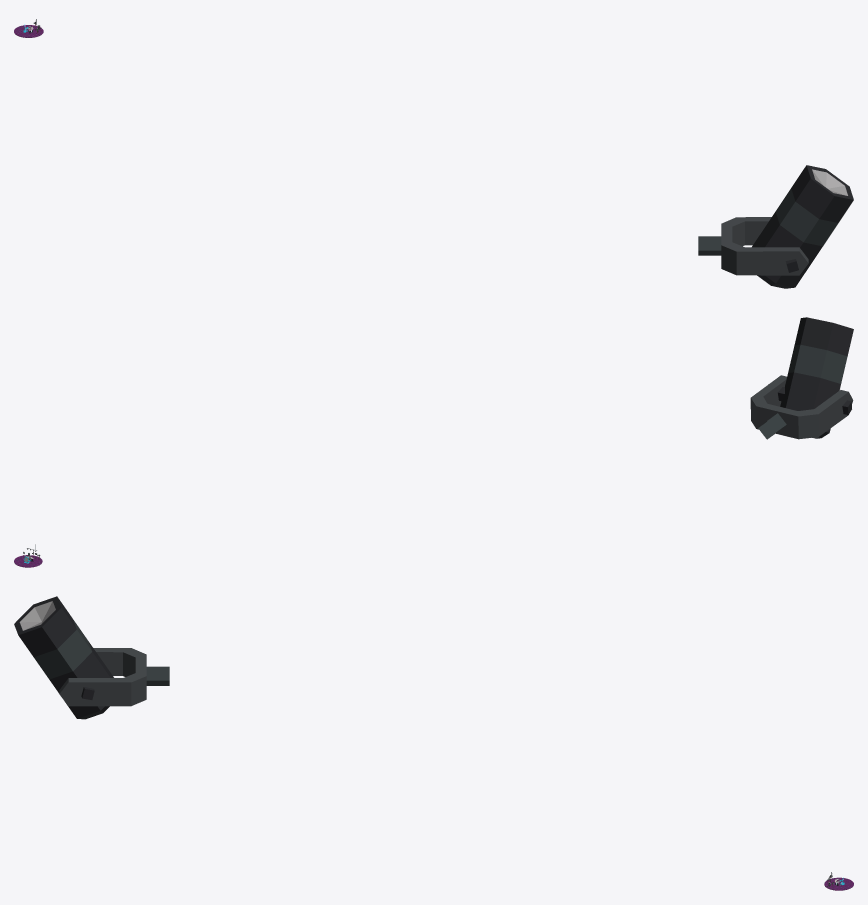
The model's file is LTTV_Set2.glb.
The picture shows the model from 3 angles, top to bottom: view 1: azimuth 90°, elevation 25°; view 2: azimuth 150°, elevation 25°; view 3: azimuth 270°, elevation 25°; orthographic projection. The views are drawn at different scales.
Visible parts, largest first — view 1: SM_Prop_Light_Spotlight_02_Light_01.001, SM_Prop_Light_Spotlight_02_Bracket_01.001; view 2: SM_Prop_Light_Spotlight_02_Light_01.001, SM_Prop_Light_Spotlight_02_Bracket_01.001; view 3: SM_Prop_Light_Spotlight_02_Light_01.001, SM_Prop_Light_Spotlight_02_Bracket_01.001.
Boxes of the visible parts, bbox=[...] form: SM_Prop_Light_Spotlight_02_Light_01.001: bbox=[752, 165, 853, 288]; SM_Prop_Light_Spotlight_02_Bracket_01.001: bbox=[698, 217, 808, 275]; SM_Prop_Light_Spotlight_02_Light_01.001: bbox=[768, 317, 853, 438]; SM_Prop_Light_Spotlight_02_Bracket_01.001: bbox=[750, 375, 853, 439]; SM_Prop_Light_Spotlight_02_Light_01.001: bbox=[14, 596, 113, 719]; SM_Prop_Light_Spotlight_02_Bracket_01.001: bbox=[59, 648, 169, 706].
Bounding box in the file's own units: 134 × 30.02 × 201.
28 materials, 12 textured.
